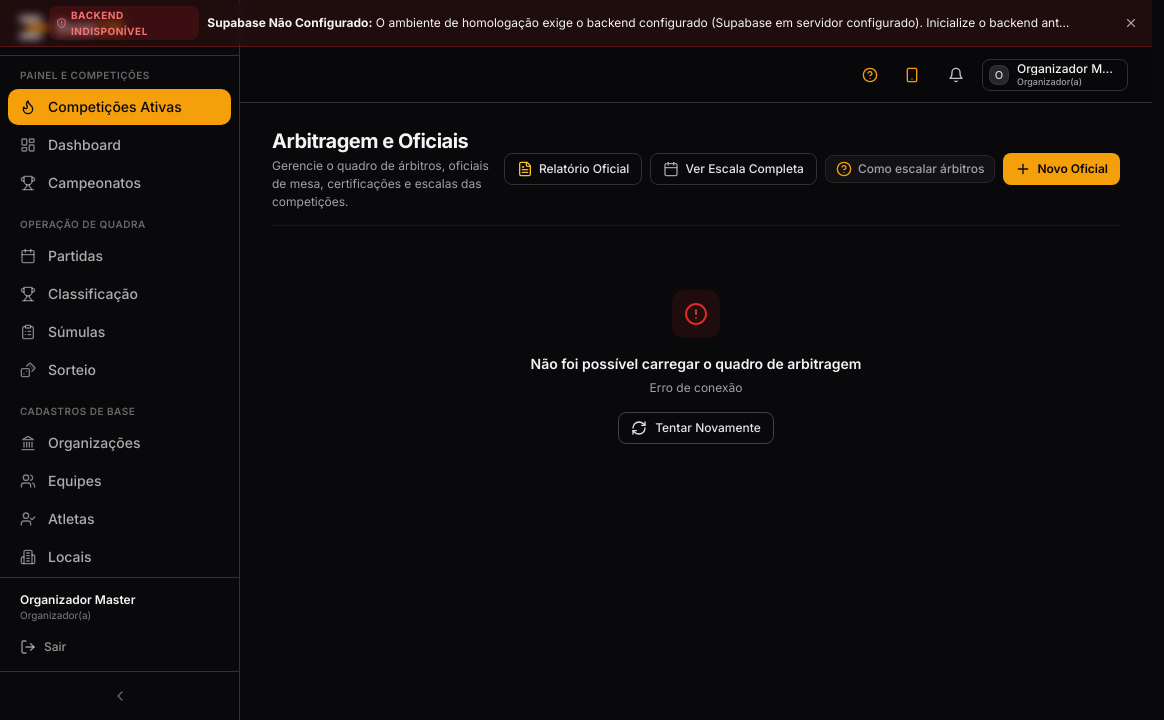
Test: RefereesPage Component (Fase 8.2) › exibe estado de erro com retry quando o carregamento falha
Expected: the message is shown, [530, 290, 862, 444]
Expected: the text "Não foi possível carregar o quadro de arbitragem" is shown, [530, 354, 862, 374]
Click the button "Tentar Novamente".
click(696, 428)  # box [618, 412, 774, 444]
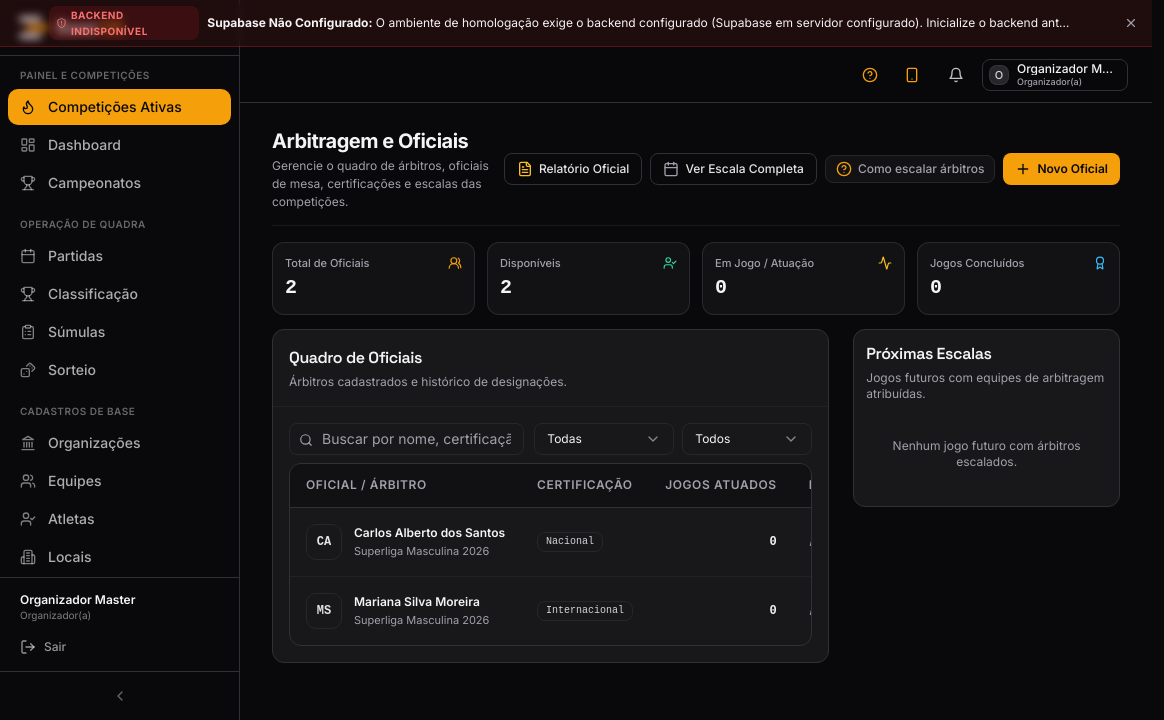
Expected: the text "Carlos Alberto dos Santos" is shown, [354, 525, 505, 541]
